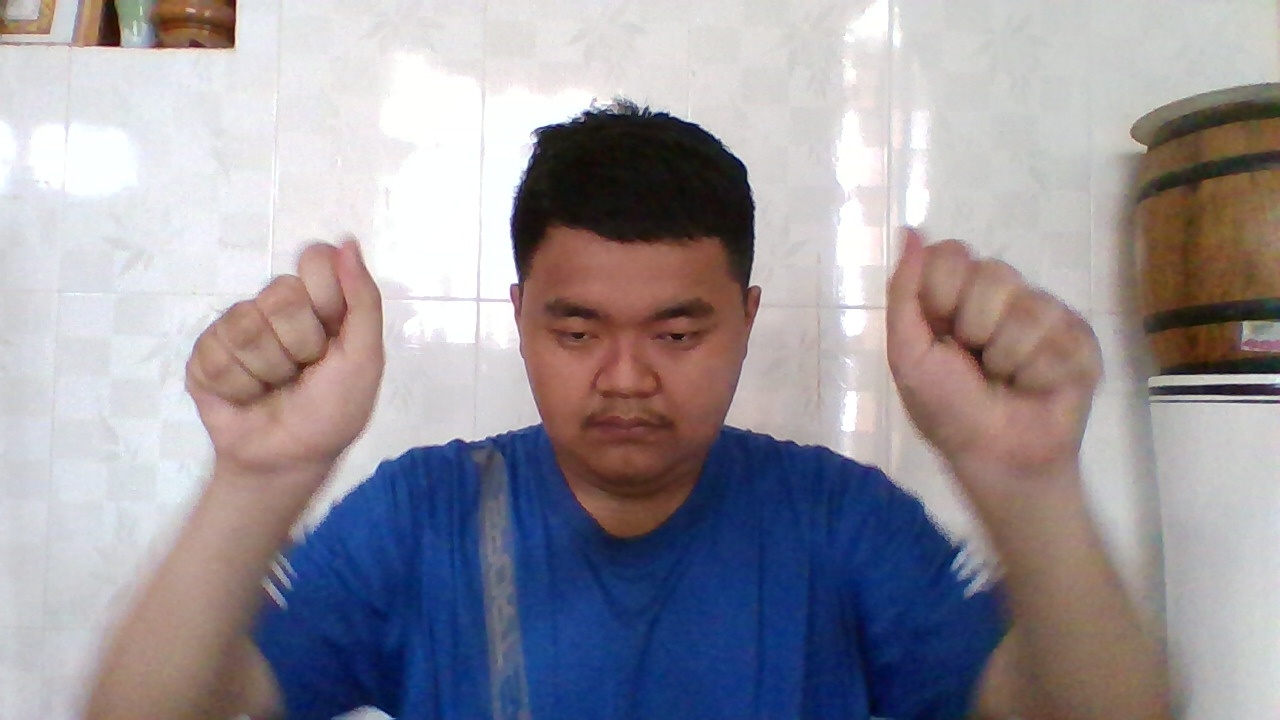A: (885, 224, 1095, 476), (190, 238, 386, 482)
